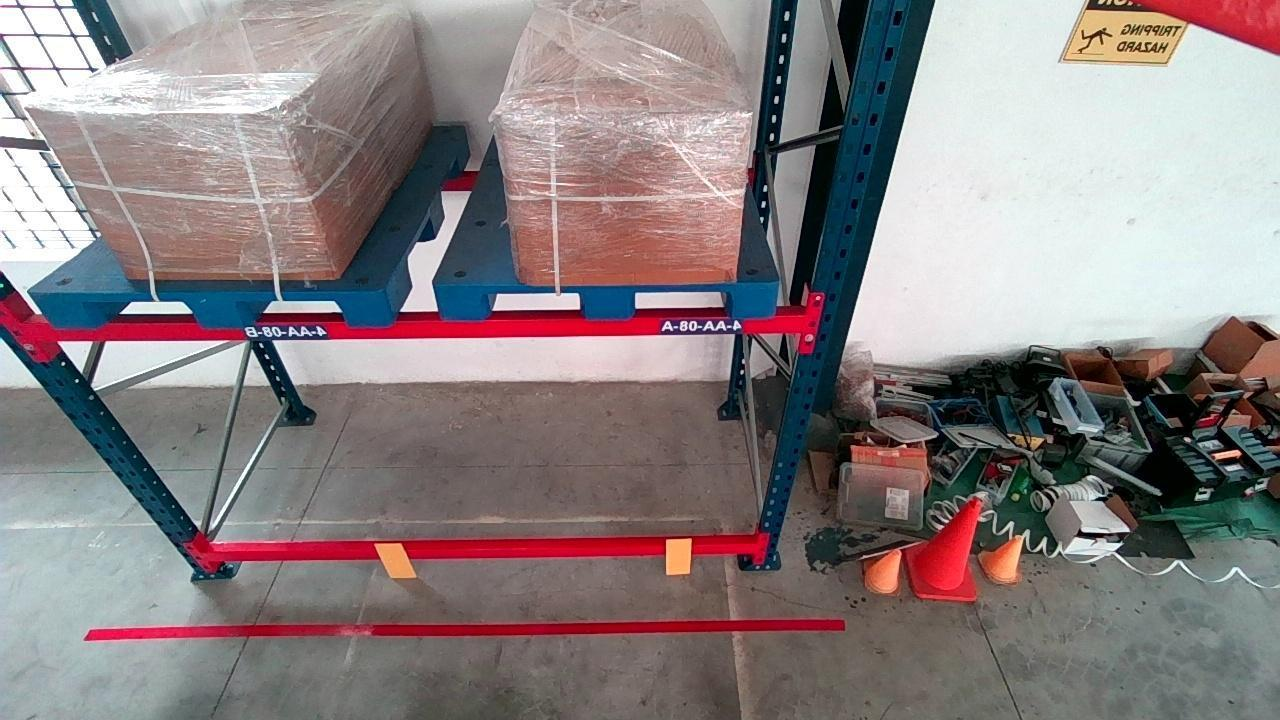h_rack: (20, 308, 805, 343), (208, 536, 753, 563)
orange_strip: (375, 541, 415, 579), (665, 537, 693, 574)
red_line: (83, 620, 844, 642)
small_pallet: (47, 288, 391, 329), (446, 282, 776, 318)
